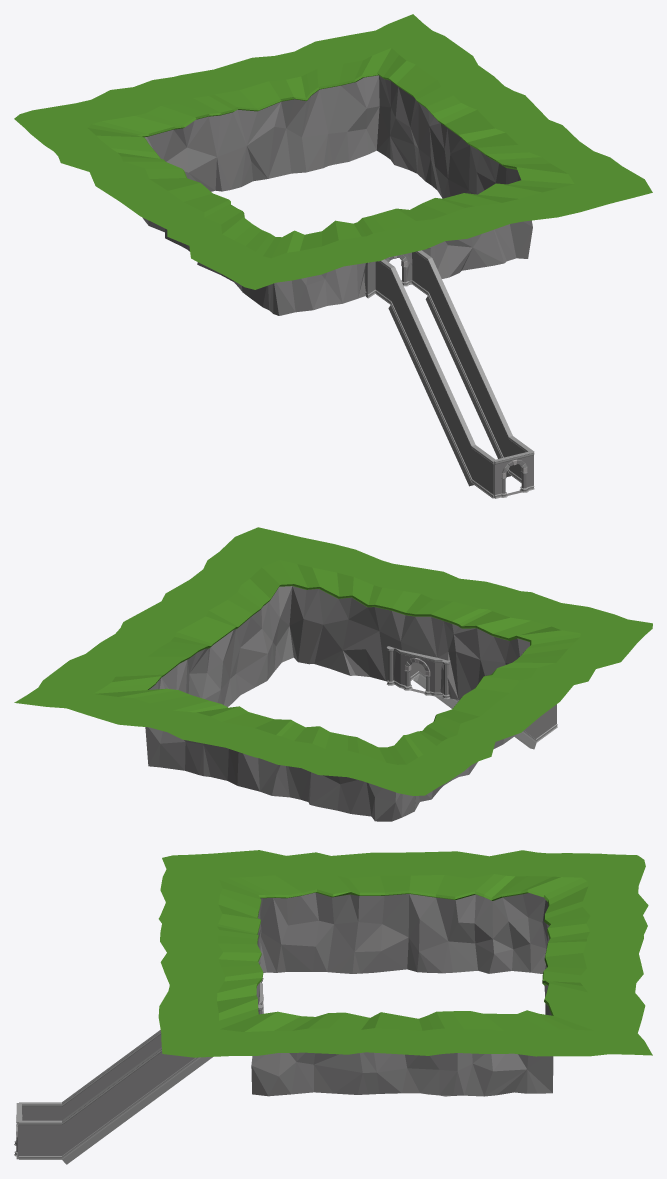
The model's file is Spawn_wall.fbx.
3 renders of one model, top to bottom at view 1: azimuth 30°, elevation 25°; view 2: azimuth 150°, elevation 25°; view 3: azimuth 270°, elevation 25°, orthographic.
Visible parts, largest first — view 1: Spawn wall; view 2: Spawn wall; view 3: Spawn wall.
Boxes of the visible parts, x1=… form: Spawn wall: x1=14, y1=14, x2=652, y2=498; Spawn wall: x1=14, y1=527, x2=652, y2=821; Spawn wall: x1=14, y1=850, x2=652, y2=1164.
Bounding box in the file's own units: 9700 × 4521 × 12616.
